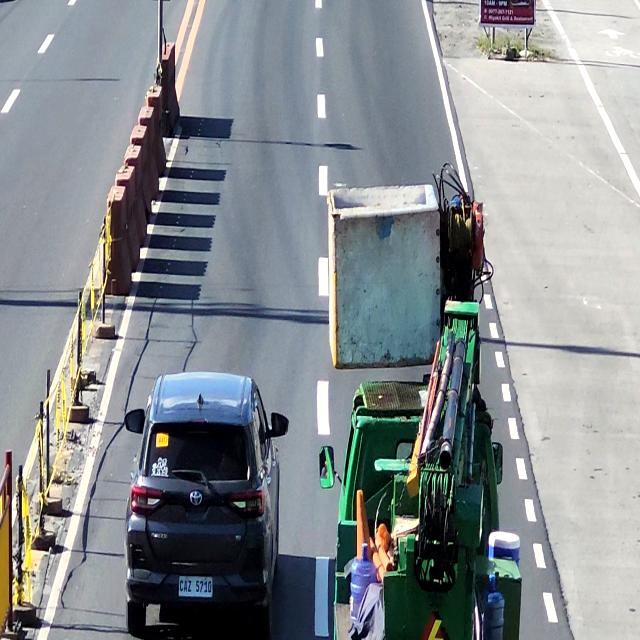Car: (134, 368, 284, 638)
License-Plate: (174, 572, 218, 606)
Truck: (317, 370, 526, 640)
